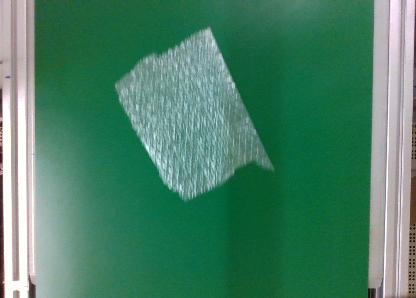Others: (112, 26, 276, 200)
